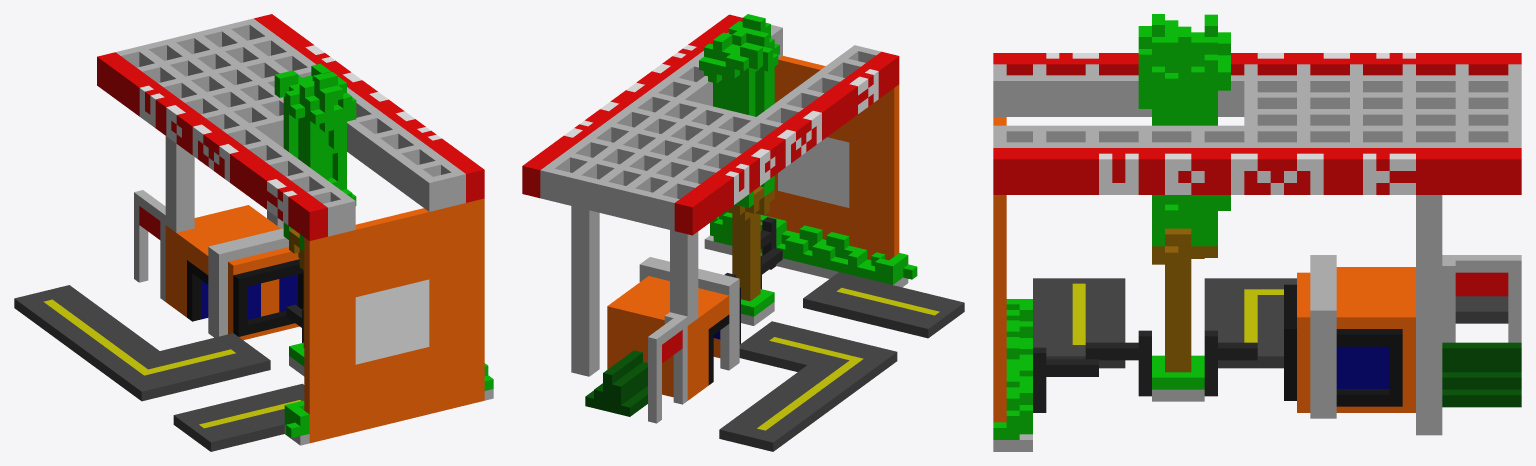
Rendered from porteria3_texture_embed (1).fbx.
The picture shows the model from 3 angles, left to right: view 1: azimuth 30°, elevation 25°; view 2: azimuth 150°, elevation 25°; view 3: azimuth 270°, elevation 25°; orthographic projection. The views are drawn at different scales.
Parts seen in each view (by area): view 1: porteria 3; view 2: porteria 3; view 3: porteria 3.
Boxes of the visible parts, x1,y1,x2,y2 form: porteria 3: (14,14,493,451); porteria 3: (522,14,964,451); porteria 3: (993,14,1521,451).
Size of the model in its own units: 290 by 310 by 400.
1 material, 1 textured.
